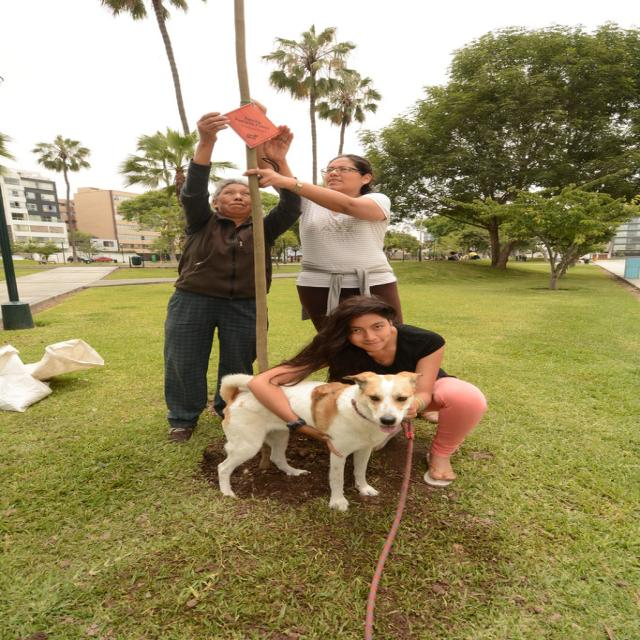Dog: (213, 370, 420, 512)
